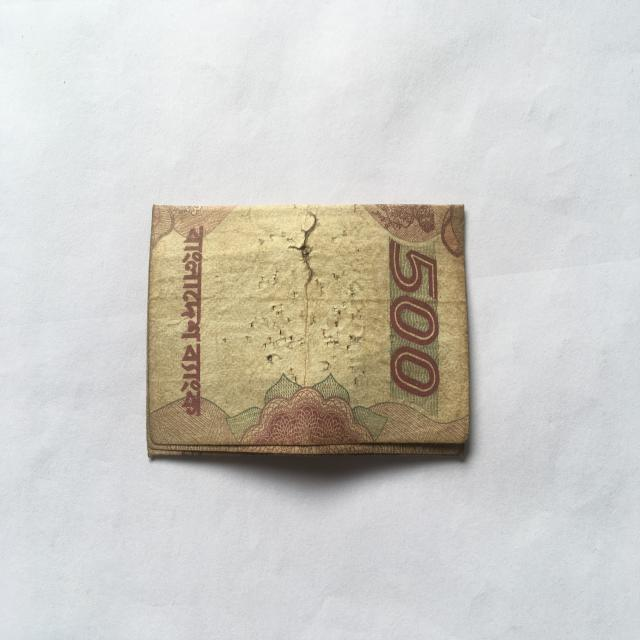Taka: (149, 188, 479, 456)
